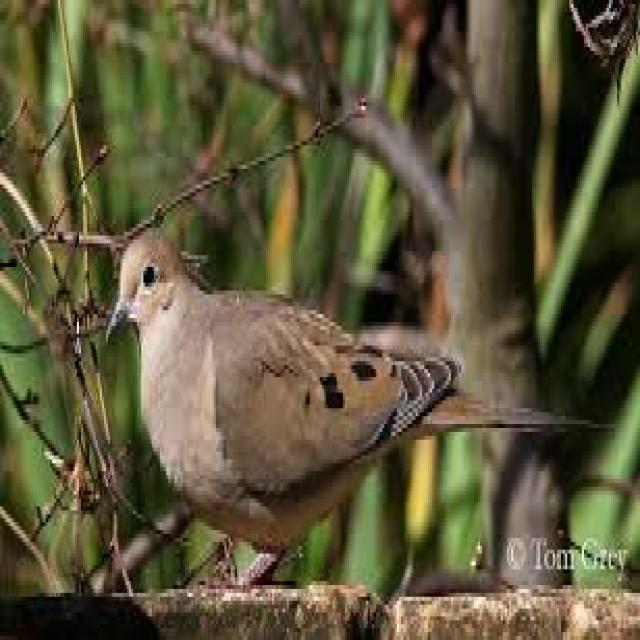pigeon: (101, 198, 558, 596)
